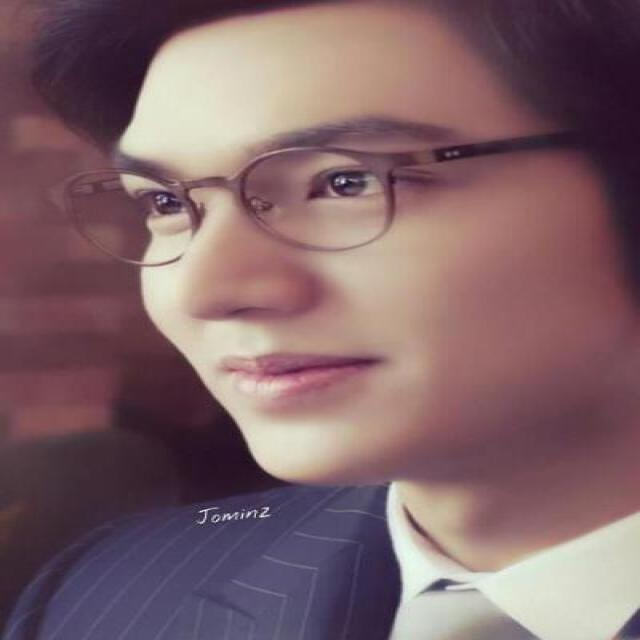glasses: (60, 127, 580, 266)
